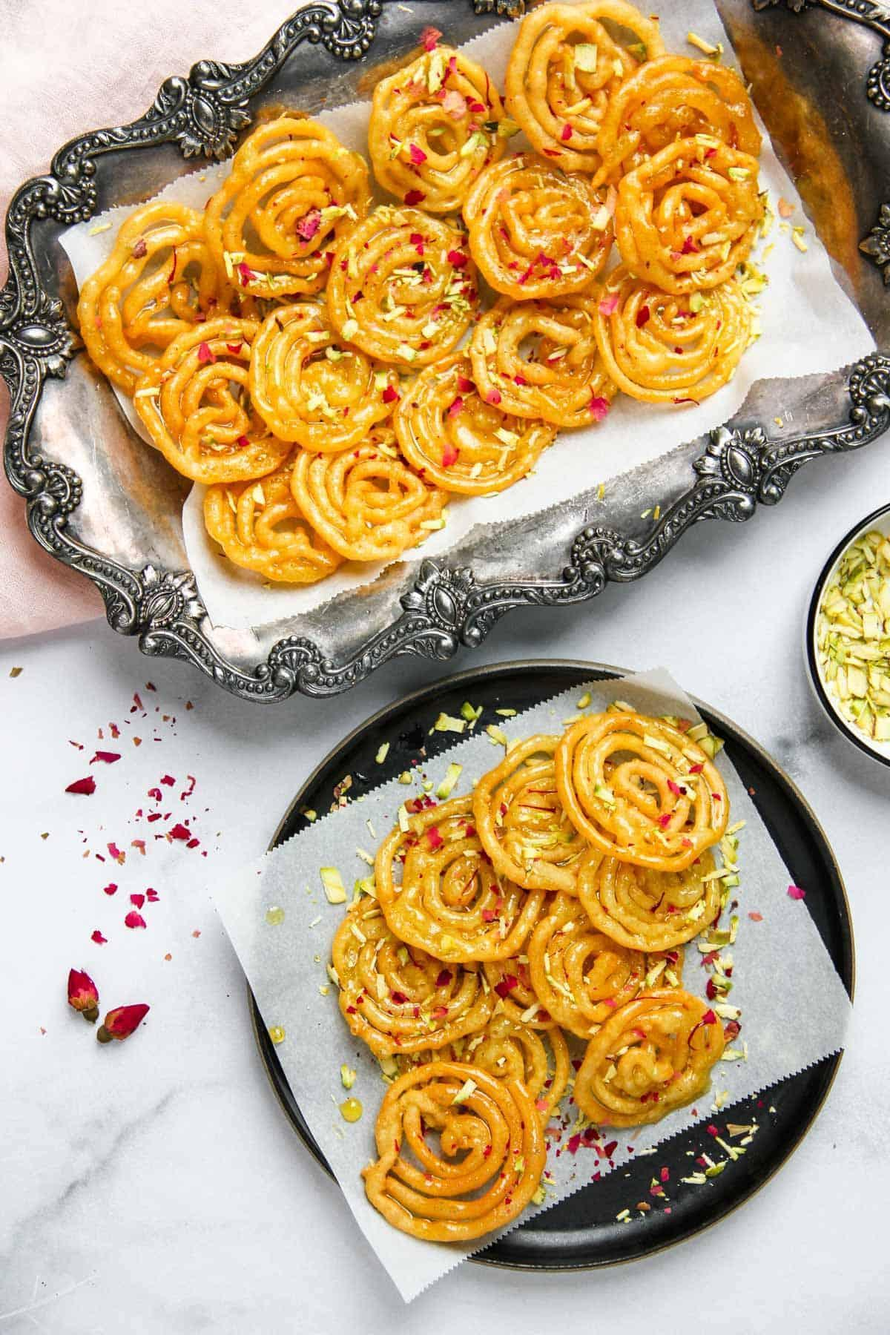jalebi: (93, 6, 820, 603), (360, 695, 771, 1234)
